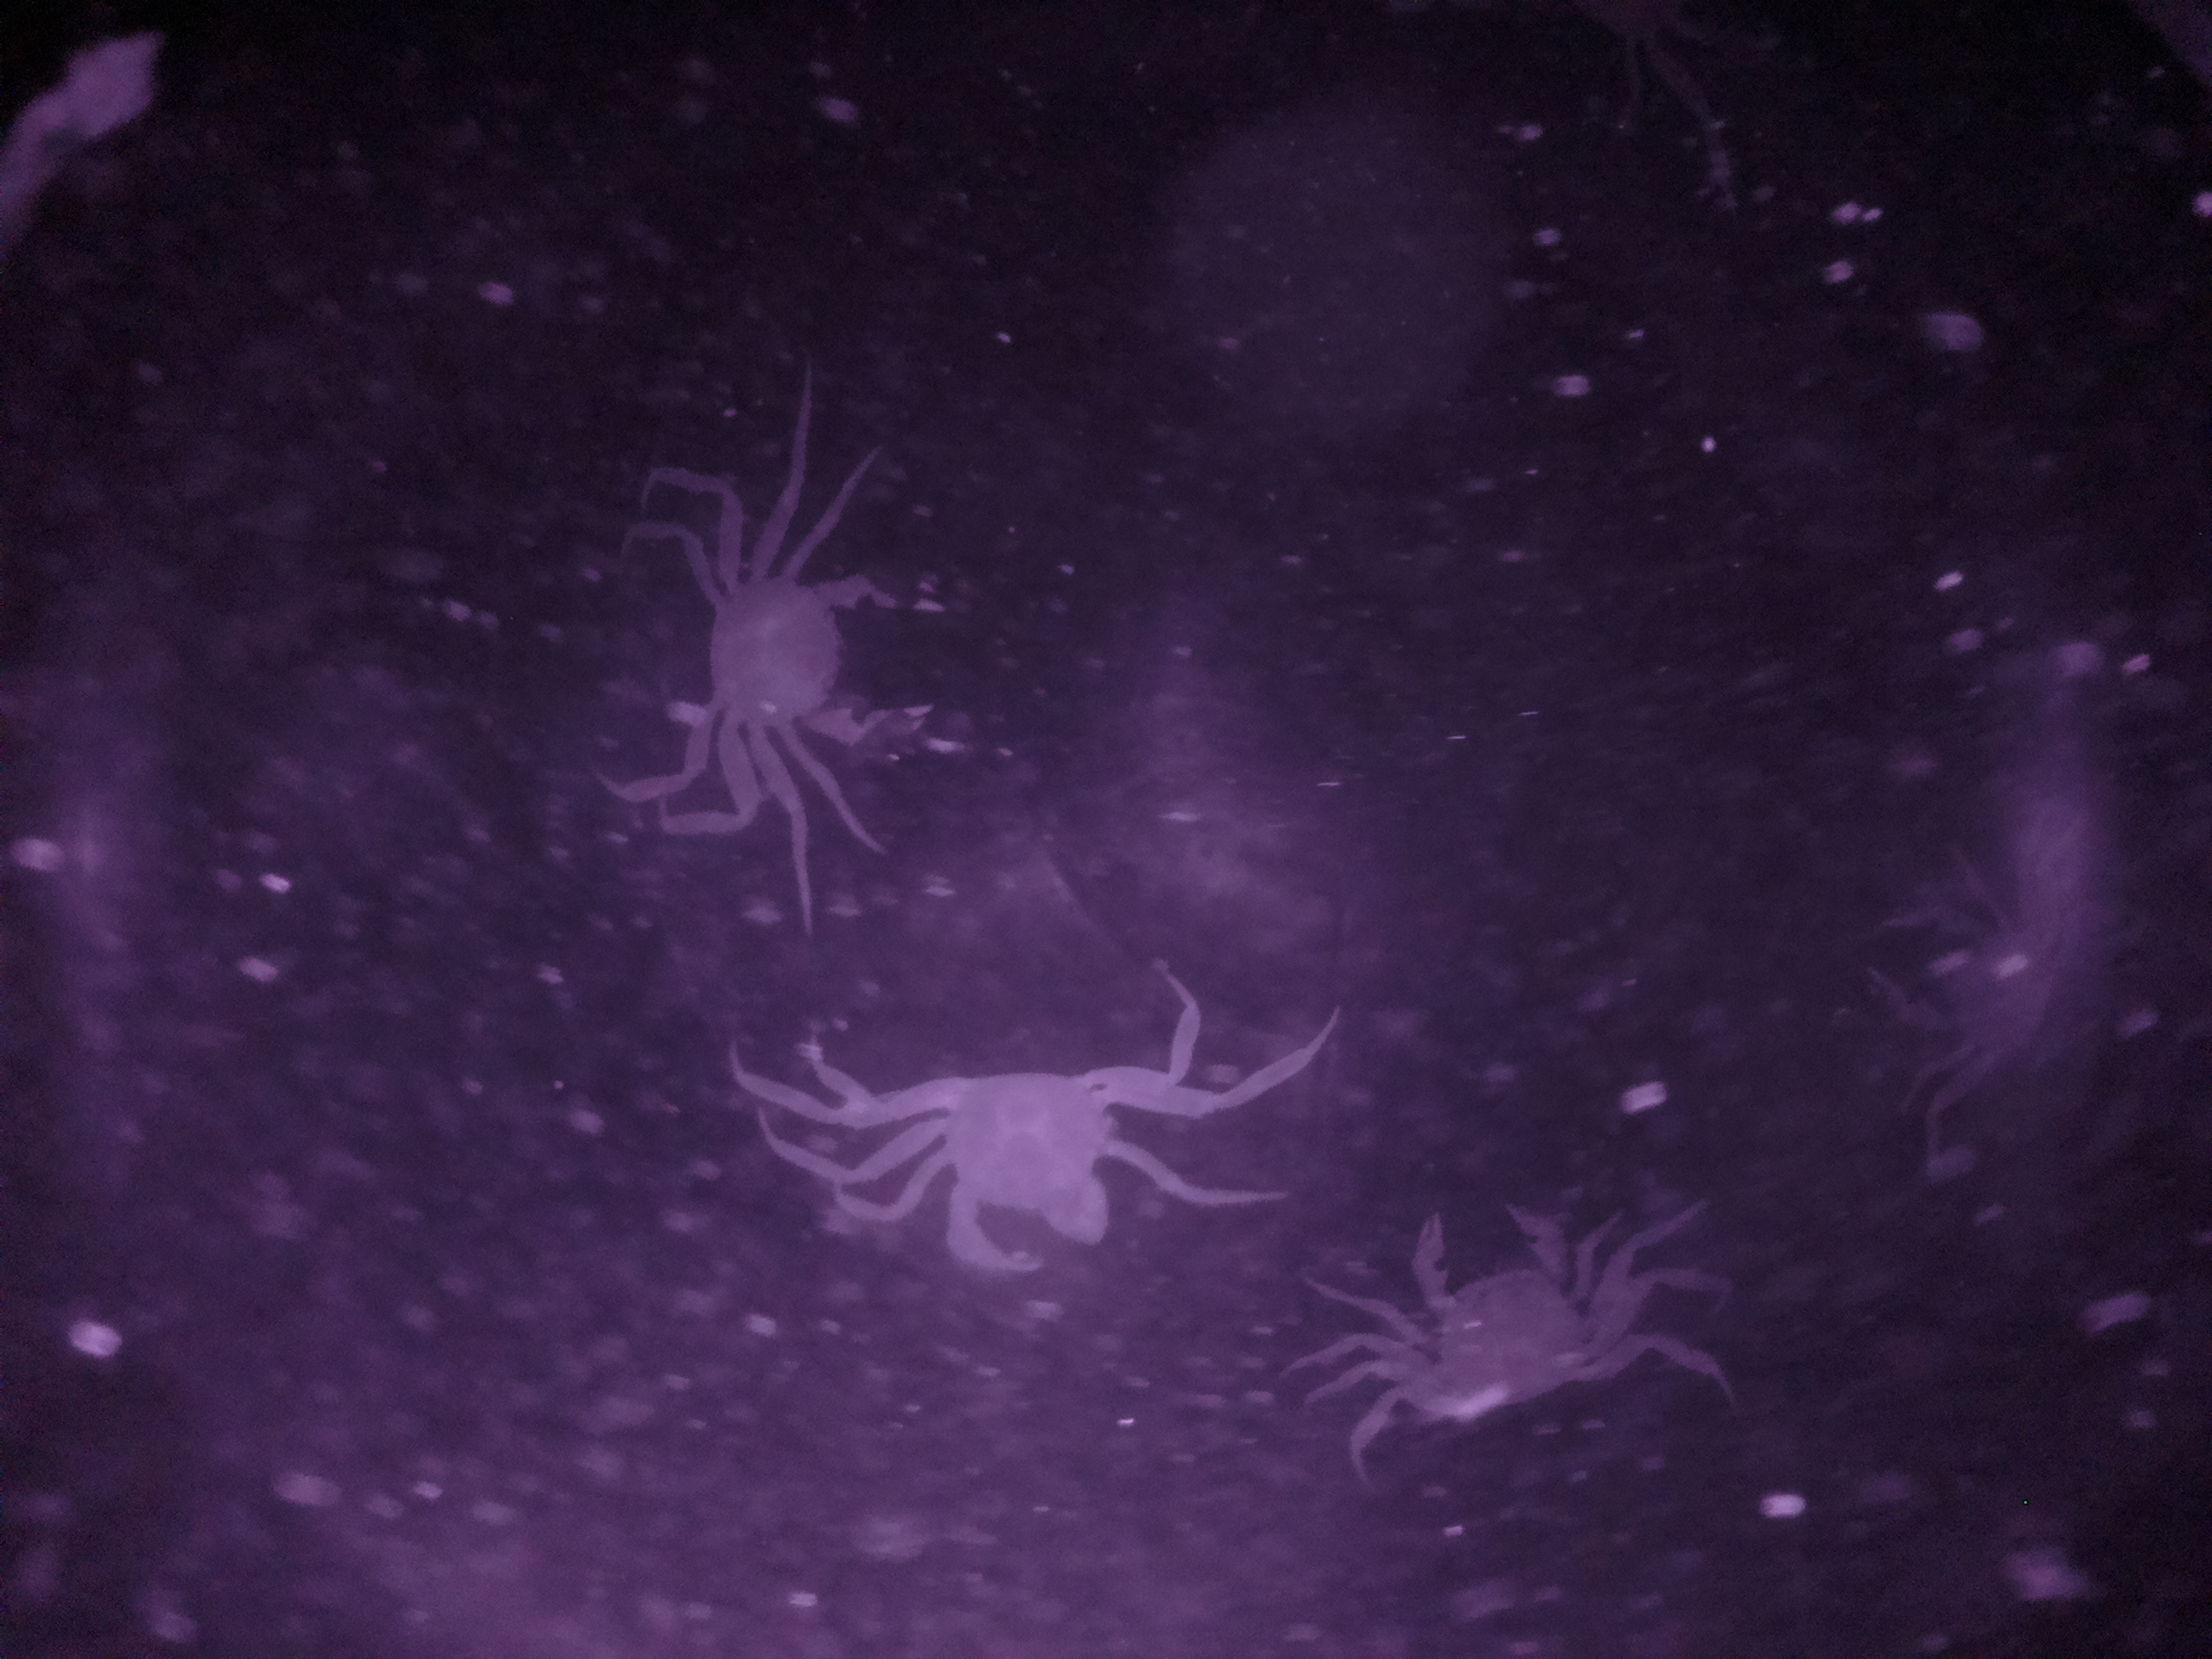Crab: (676, 521, 1054, 803), (1362, 1168, 1613, 1439), (887, 1042, 1132, 1305)
